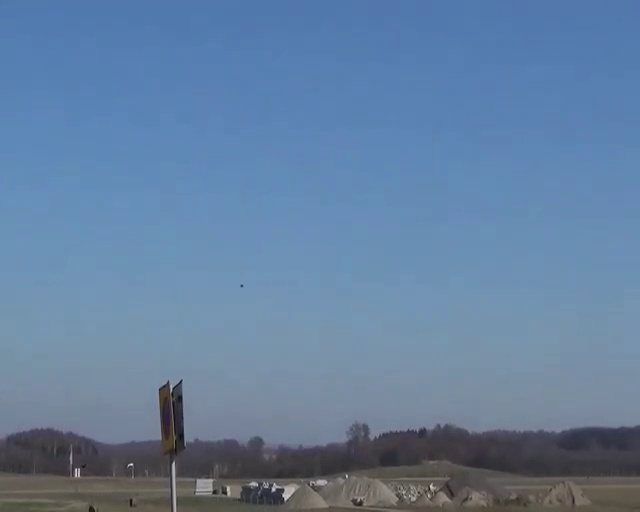BIRD: (235, 280, 245, 291)
